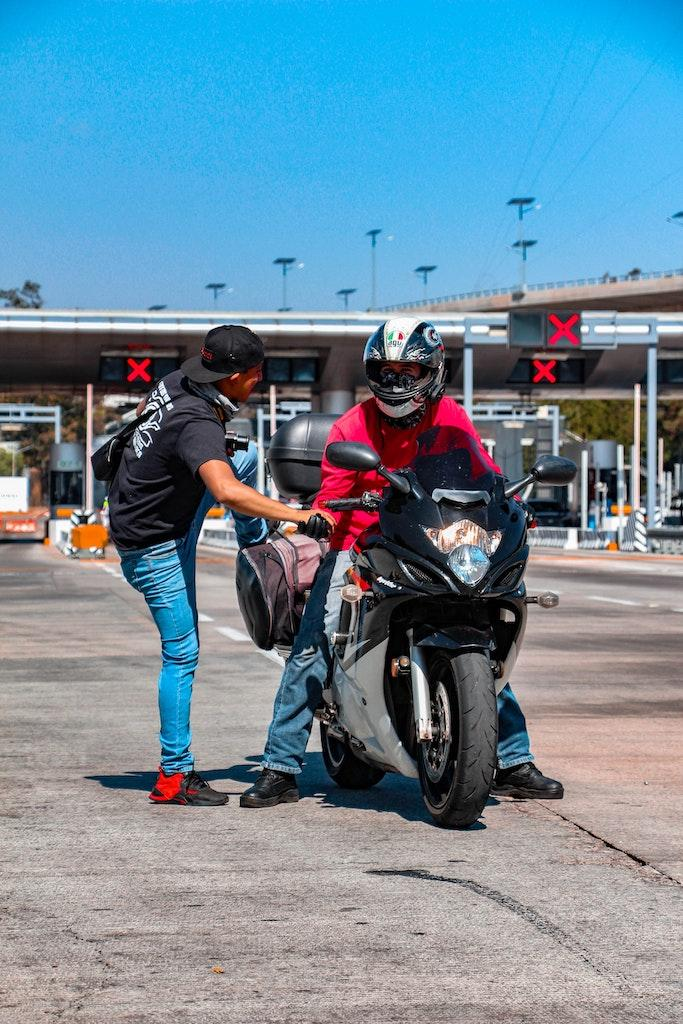helmet: (362, 315, 447, 420)
nohelmet: (179, 323, 266, 405)
